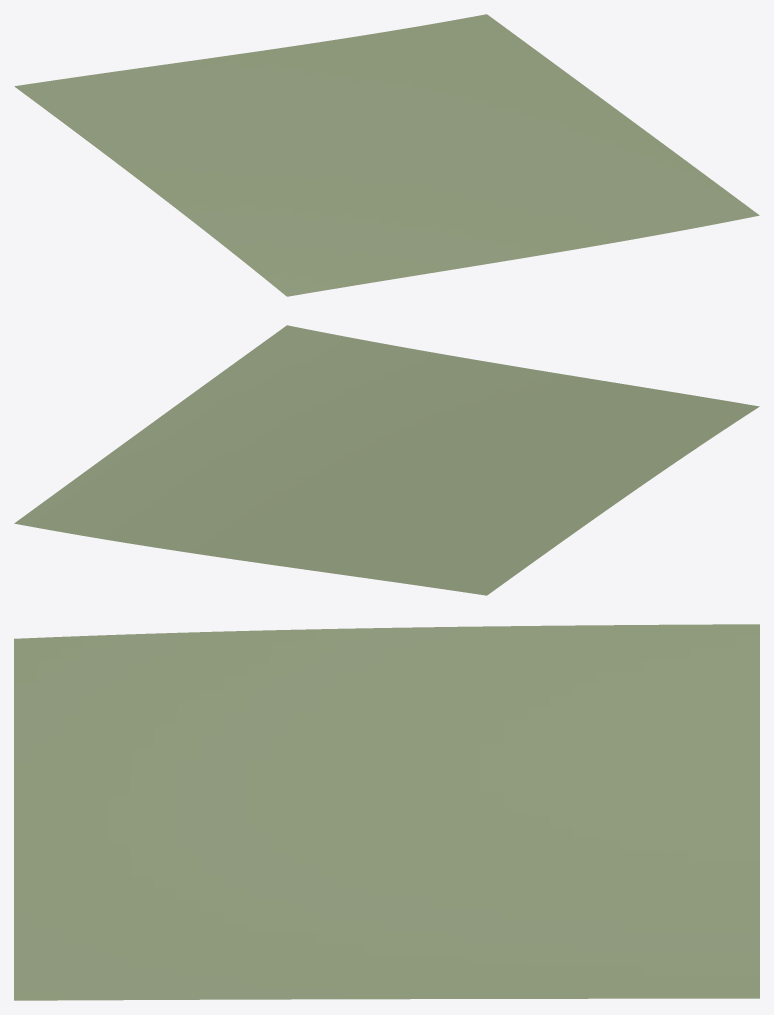
The model's file is valley-3-6.glb.
The picture shows the model from 3 angles, top to bottom: view 1: azimuth 30°, elevation 25°; view 2: azimuth 150°, elevation 25°; view 3: azimuth 270°, elevation 25°; orthographic projection. The views are drawn at different scales.
Visible parts, largest first — view 1: valley-3-6; view 2: valley-3-6; view 3: valley-3-6.
Part boxes in pixels (x1,y1,x2,y2): valley-3-6: (14,14,759,296); valley-3-6: (14,325,759,595); valley-3-6: (14,624,759,1000).
Size of the model in its own units: 256 by 23.18 by 256.
